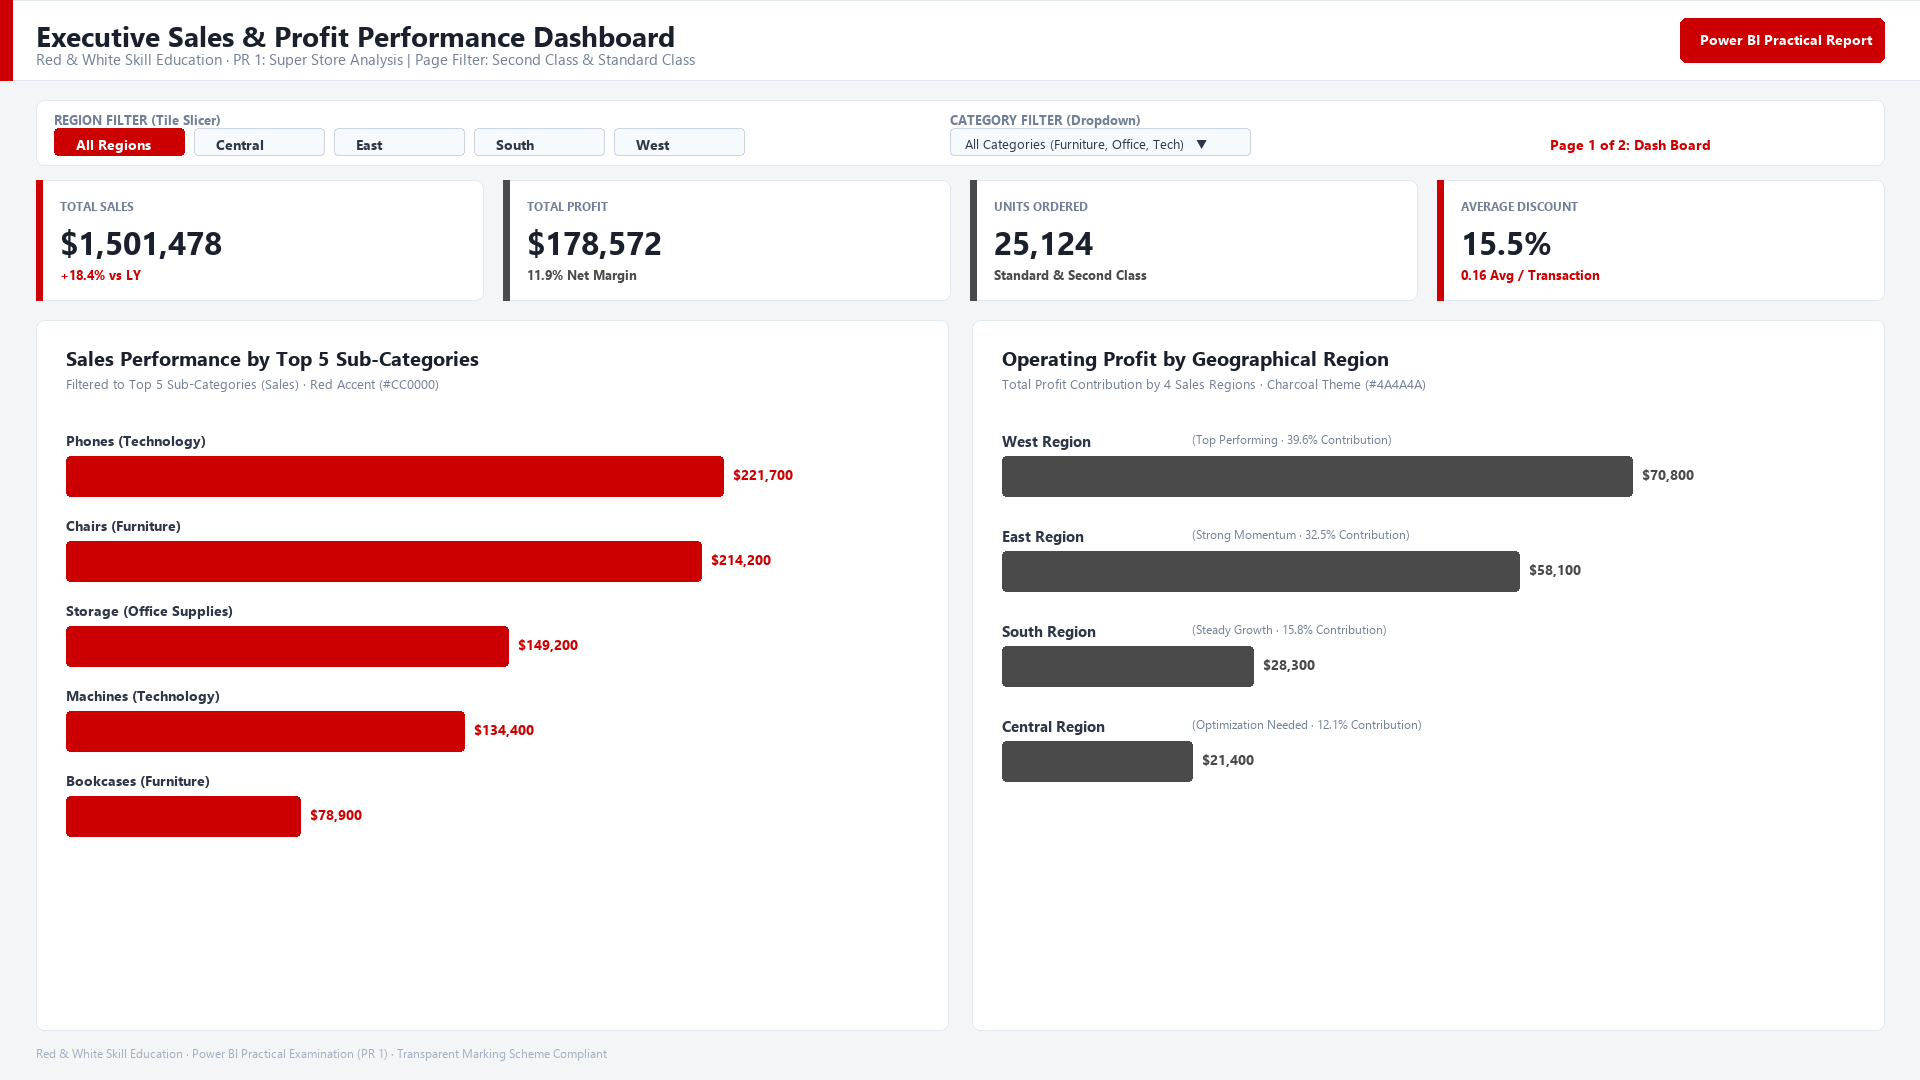

This screenshot's page, from the dashboard's own definition file:
{"tool":"powerbi","page":{"name":"Dash Board","canvas":[1280,720],"ordinal":0},"visuals":[{"type":"cardVisual","fields":{"Data":["Sum(Sample - Superstore.Sales)"]},"box":[20.3,91.3,300,90],"z":0},{"type":"cardVisual","fields":{"Data":["Sum(Sample - Superstore.Profit)"]},"box":[319.7,91.7,300,90],"z":1000},{"type":"cardVisual","fields":{"Data":["Sum(Sample - Superstore.Quantity)"]},"box":[645.3,91.3,300,90],"z":2000},{"type":"cardVisual","fields":{"Data":["Avg(Sample - Superstore.Discount)"]},"box":[945.8,92.9,300,90],"z":3000},{"type":"clusteredBarChart","title":"Total Revenue By Product Category","fields":{"Category":["Sample - Superstore.Category"],"Y":["Sum(Sample - Superstore.Sales)"]},"box":[20.3,280,600,440.3],"z":4000},{"type":"clusteredBarChart","title":"Total Profit By Geographic Region","fields":{"Category":["Sample - Superstore.Region"],"Y":["Sum(Sample - Superstore.Profit)"]},"box":[645.3,280,600,440],"z":5000},{"type":"slicer","fields":{"Values":["Sample - Superstore.Region"]},"box":[20.5,194.2,599.6,71.2],"z":6000},{"type":"slicer","fields":{"Values":["Sample - Superstore.Category"]},"box":[645.4,194.2,600.8,71.2],"z":7000},{"type":"textbox","box":[20.5,15.7,1240.2,62.7],"z":8000}]}

Visuals, with their boxes in screenshot pixels (x1, y1, x2, y2), scaled from the page's 1280x720 canvas onto the 1920x1080 screenshot:
cardVisual - Sum(Sample - Superstore.Sales): x1=30, y1=137, x2=480, y2=272
cardVisual - Sum(Sample - Superstore.Profit): x1=480, y1=138, x2=930, y2=273
cardVisual - Sum(Sample - Superstore.Quantity): x1=968, y1=137, x2=1418, y2=272
cardVisual - Avg(Sample - Superstore.Discount): x1=1419, y1=139, x2=1869, y2=274
"Total Revenue By Product Category" clusteredBarChart: x1=30, y1=420, x2=930, y2=1079
"Total Profit By Geographic Region" clusteredBarChart: x1=968, y1=420, x2=1868, y2=1079
slicer - Sample - Superstore.Region: x1=31, y1=291, x2=930, y2=398
slicer - Sample - Superstore.Category: x1=968, y1=291, x2=1869, y2=398
textbox: x1=31, y1=24, x2=1891, y2=118
